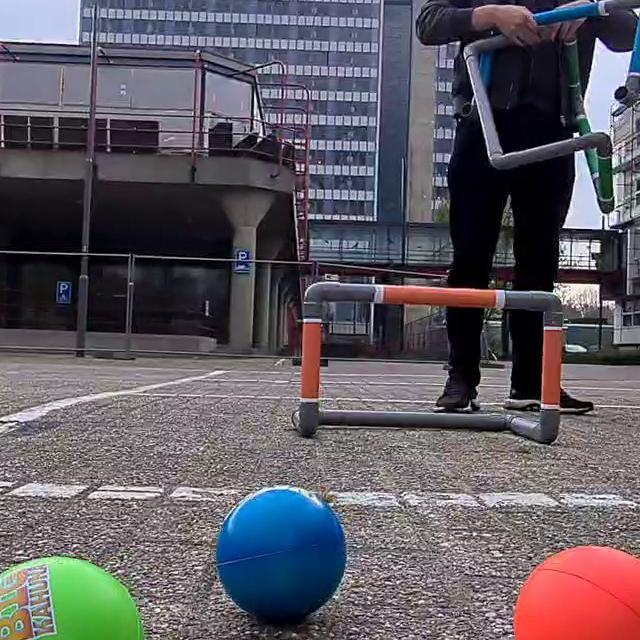ball: (212, 482, 350, 629), (507, 536, 640, 640)
